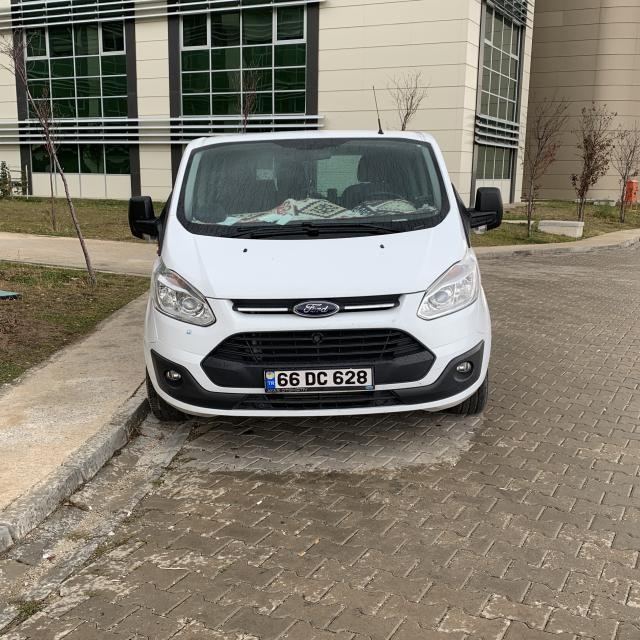license_plate: (264, 368, 373, 388)
